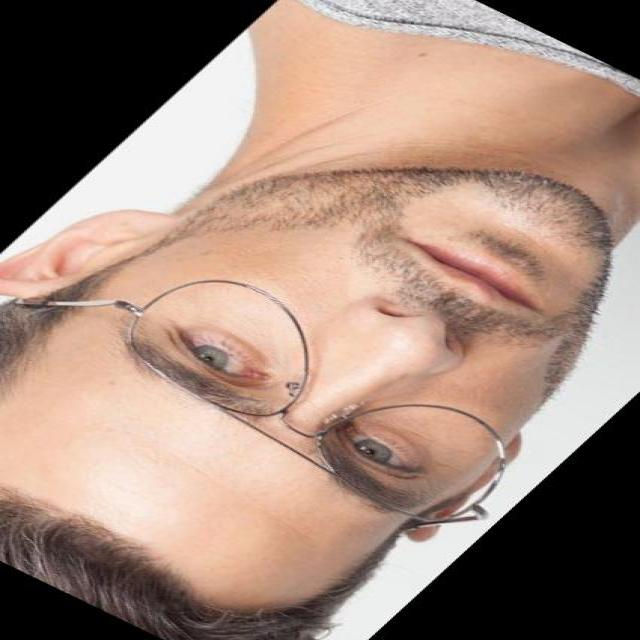glasses: (0, 216, 572, 544)
